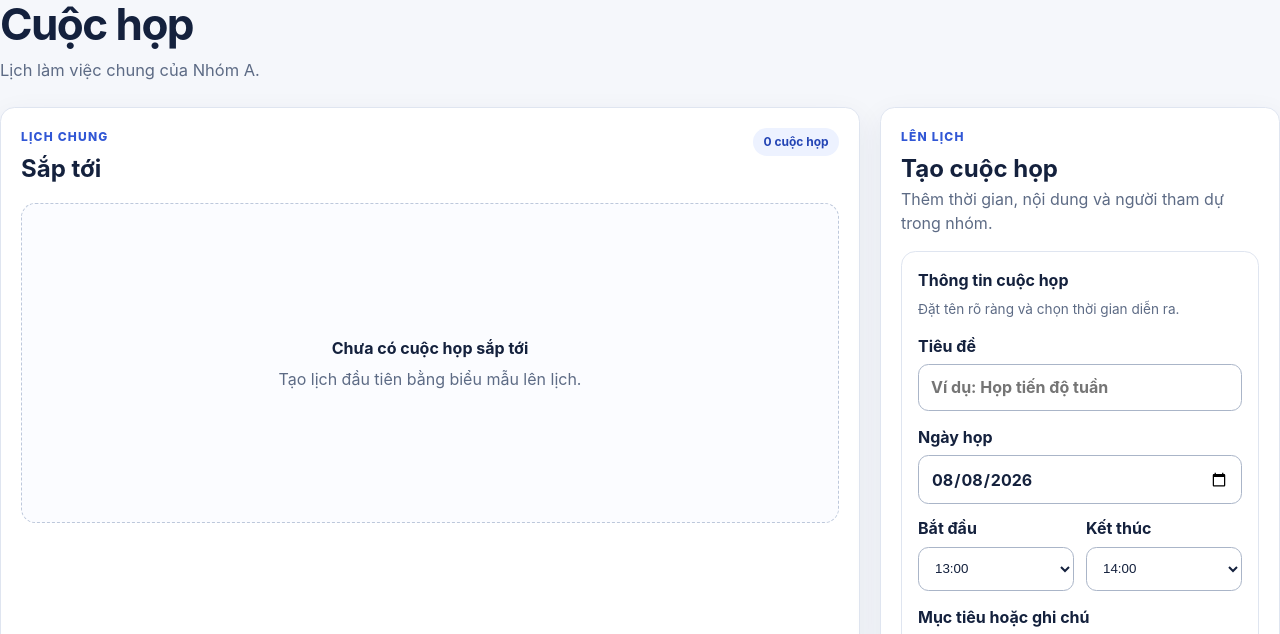
Scenario: hiển thị server validation error khi create thất bại
Type "Planning" into the field labelled "Tiêu đề".
click(1080, 387); type("Planning")  # box [918,364,1242,411]
(page scrolled)
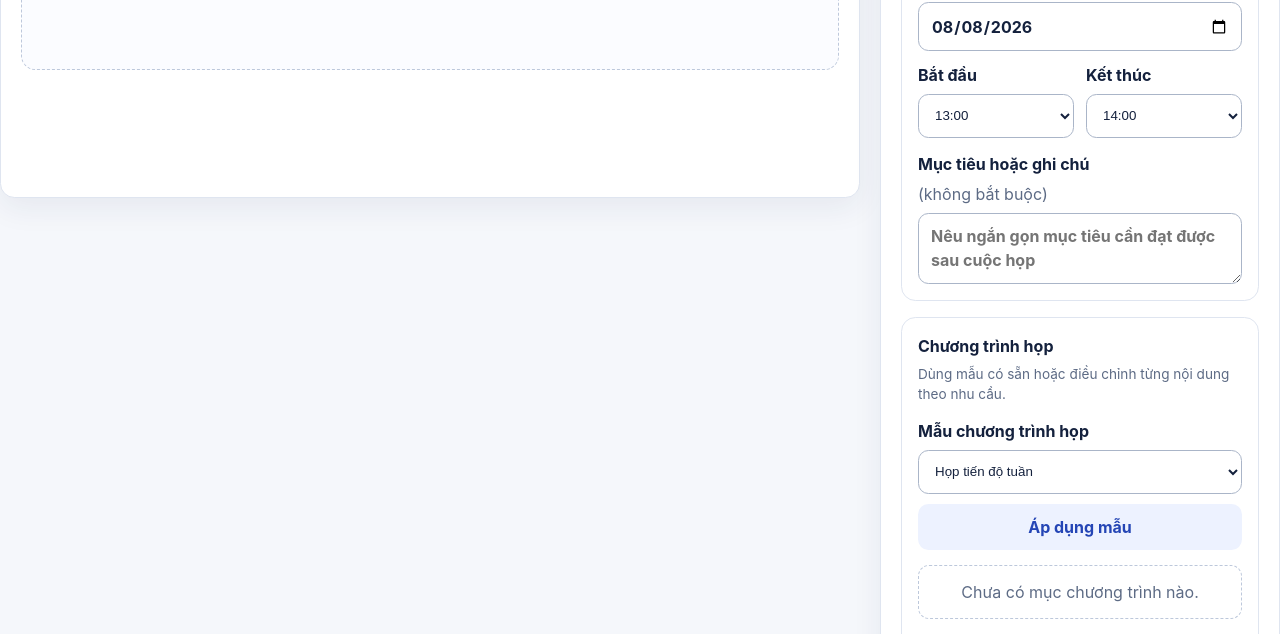
Submit the form named "tạo cuộc họp"
(page scrolled)
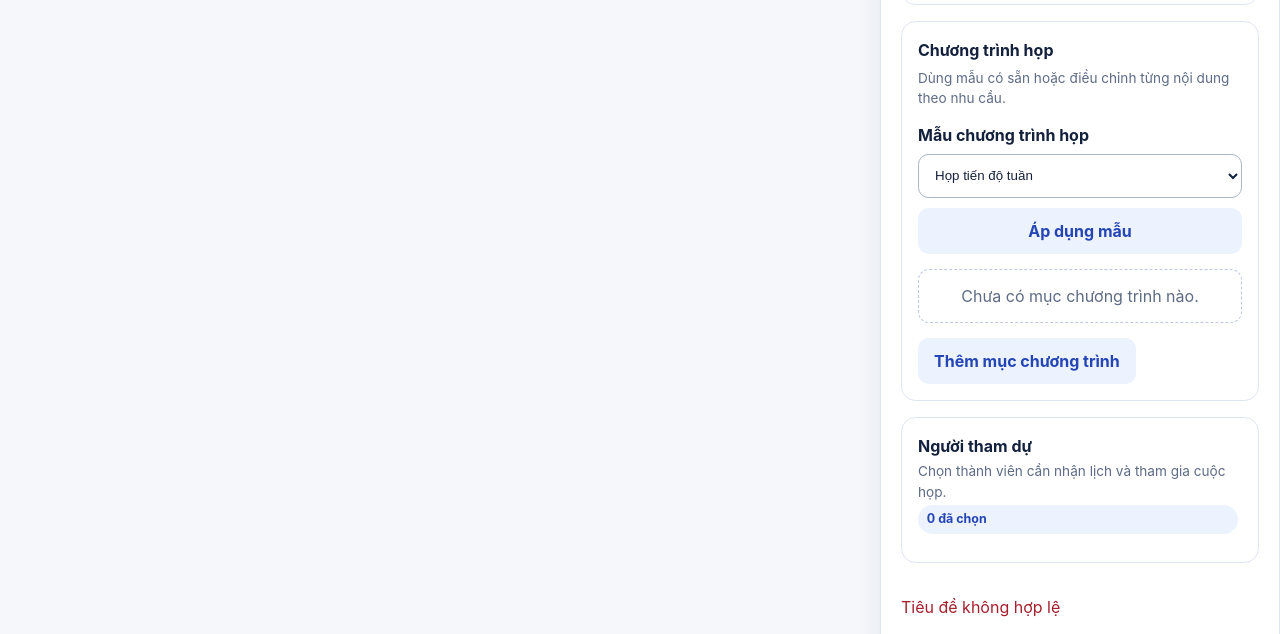
Expected: the message reads "Tiêu đề không hợp lệ", [901,597,1060,617]
